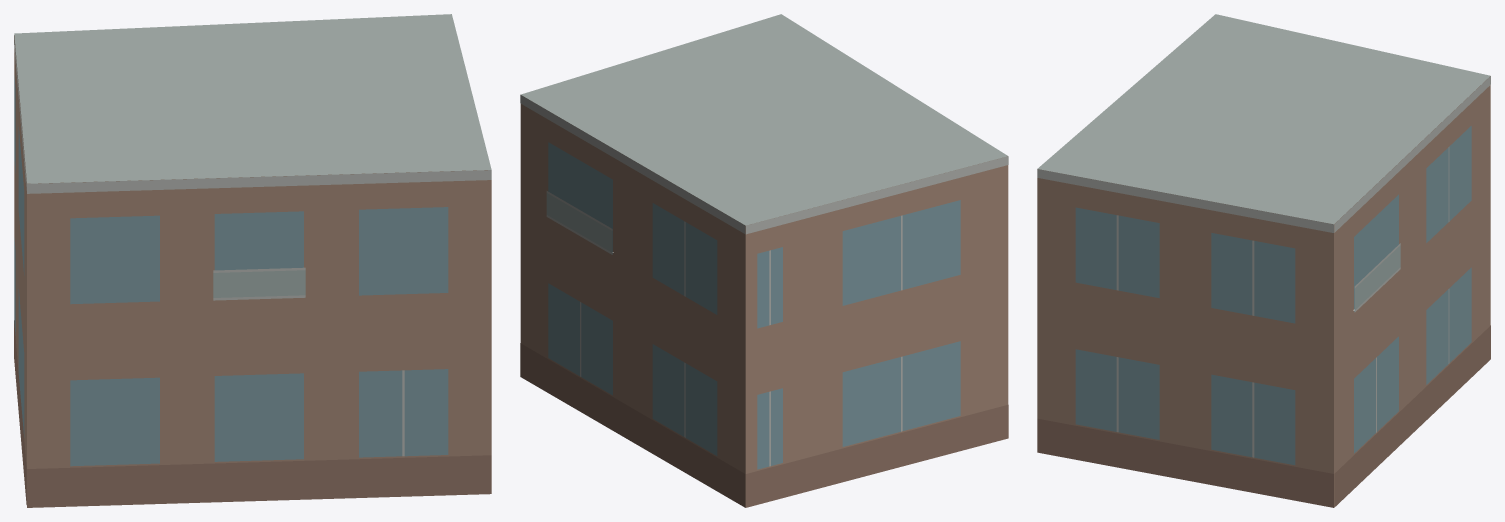
File: survey-upis-32636878.glb
3 renders of one model, left to right at view 1: azimuth 30°, elevation 25°; view 2: azimuth 150°, elevation 25°; view 3: azimuth 270°, elevation 25°, orthographic. The views are drawn at different scales.
Visible parts, largest first — view 1: survey-upis-32636878.tmp; view 2: survey-upis-32636878.tmp; view 3: survey-upis-32636878.tmp.
Boxes of the visible parts, bbox=[...] form: survey-upis-32636878.tmp: bbox=[14, 14, 491, 507]; survey-upis-32636878.tmp: bbox=[520, 14, 1008, 507]; survey-upis-32636878.tmp: bbox=[1037, 14, 1490, 507].
Size of the model in its own units: 12.42 by 7.8 by 11.32.
